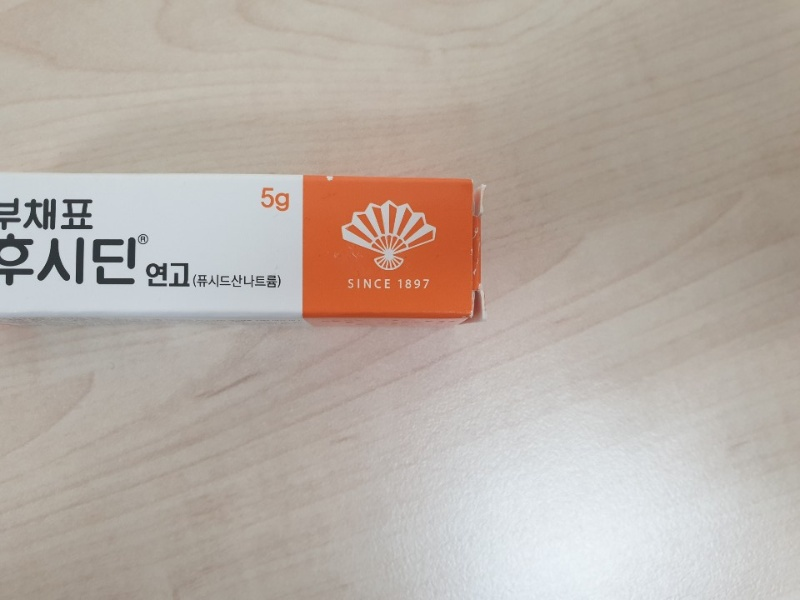fucidin: (1, 171, 481, 324)
